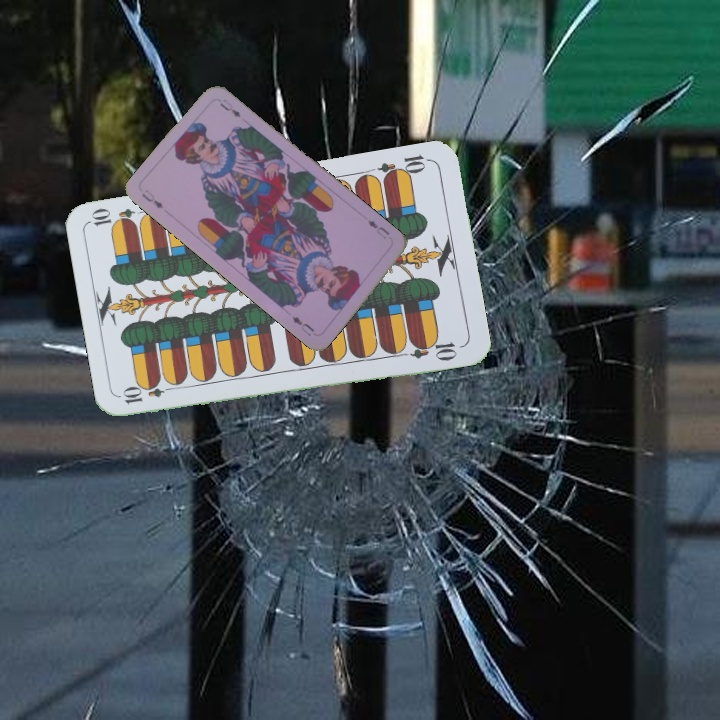E10: (374, 151, 433, 183), (119, 380, 178, 407)
EU: (137, 185, 166, 212), (364, 216, 392, 242)
